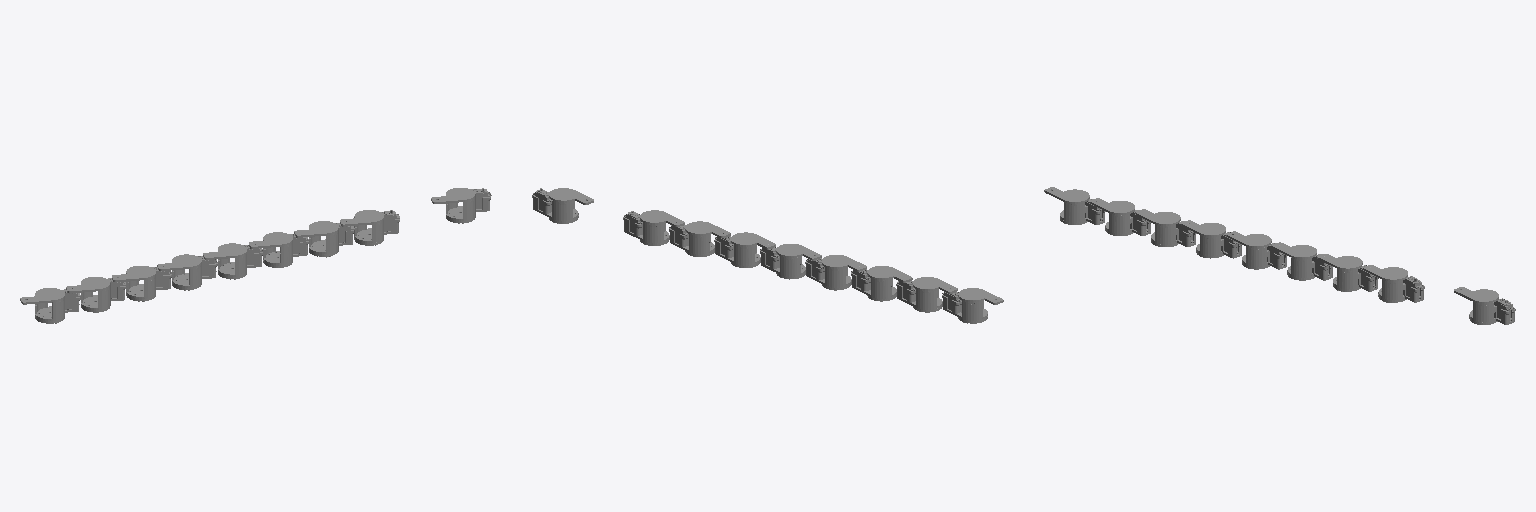
The robot description file, URDF, robot "cobraplaca":
<?xml version="1.0" encoding="utf-8"?>
<!-- This URDF was automatically created by SolidWorks to URDF Exporter! Originally created by [author] ([email redacted]) 
     Commit Version: 1.6.0-4-g7f85cfe  Build Version: 1.6.7995.38578
     For more information, please see http://wiki.ros.org/sw_urdf_exporter -->
<!-- 
  Modificações foram feitas nessa descrição a fim de simular o robô no ambiente de simulação Gazebo
  Autor: [author]
  email: [email redacted]
-->
<robot
  name="cobraplaca">
  <gazebo>
    <plugin name="gazebo_ros_control" filename="libgazebo_ros_control.so">
      <robotNamespace>/cobraplaca</robotNamespace>
    </plugin>
  </gazebo>
  <link name = "dummy"/>
  <link
    name="modulo1">
    <inertial>
      <origin
        xyz="-0.19548 -0.0079371 -0.092787"
        rpy="0 0 0" />
      <mass
        value="0.062449" />
      <inertia
        ixx="4.2331E-05"
        ixy="8.2349E-07"
        ixz="-3.8461E-06"
        iyy="9.0357E-05"
        iyz="-9.8697E-08"
        izz="7.2959E-05" />
    </inertial>
    <visual>
      <origin
        xyz="0 0 0"
        rpy="0 0 0" />
      <geometry>
        <mesh
          filename="package://cobraplaca/meshes/base_link.STL" />
      </geometry>
      <material
        name="">
        <color
          rgba="0.62745 0.62745 0.62745 1" />
      </material>
    </visual>
    <collision>
      <origin
        xyz="0 0 0"
        rpy="0 0 0" />
      <geometry>
        <mesh
          filename="package://cobraplaca/meshes/base_link.STL" />
      </geometry>
    </collision>
  </link>
  <gazebo reference="modulo1">
    <mu1>0.9</mu1>
    <mu2>0.9</mu2>
    
  </gazebo>
  <joint name = "dummy_joint" type = "fixed">
    <parent link="dummy"/>
    <child link="modulo1"/>
  </joint>
  <link
    name="modulo2">
    <inertial>
      <origin
        xyz="0.073686 -0.029721 -0.0008313"
        rpy="0 0 0" />
      <mass
        value="0.062449" />
      <inertia
        ixx="4.2331E-05"
        ixy="8.2349E-07"
        ixz="-3.8461E-06"
        iyy="9.0357E-05"
        iyz="-9.8697E-08"
        izz="7.2959E-05" />
    </inertial>
    <visual>
      <origin
        xyz="0 0 0"
        rpy="0 0 0" />
      <geometry>
        <mesh
          filename="package://cobraplaca/meshes/modulo2.STL" />
      </geometry>
      <material
        name="">
        <color
          rgba="0.62745 0.62745 0.62745 1" />
      </material>
    </visual>
    <collision>
      <origin
        xyz="0 0 0"
        rpy="0 0 0" />
      <geometry>
        <mesh
          filename="package://cobraplaca/meshes/modulo2.STL" />
      </geometry>
    </collision>
  </link>
  <gazebo reference="modulo2">
    <mu1>0.9</mu1>
    <mu2>0.9</mu2>
  </gazebo>
  <joint
    name="joint1"
    type="revolute">
    <origin
      xyz="-0.15473 0.091996 0.021784"
      rpy="1.5708 0 0" />
    <parent
      link="modulo1" />
    <child
      link="modulo2" />
    <axis
      xyz="0 1 0" />
    <limit
      lower="-2.0"
      upper="2.0"
      effort="10.0"
      velocity="0.5" />
    <physics>
      <ode cfm_damping = "true">
        <limit cfm = "1.0"/>
        <suspension cfm="1.0"/>
      </ode>
    </physics>
  </joint>
  <transmission name="trans1">
    <type>transmission_interface/SimpleTransmission</type>
    <joint name="joint1">
      <hardwareInterface>hardware_interface/EffortJointInterface</hardwareInterface>
    </joint>
    <actuator name="motor1">
      <hardwareInterface>hardware_interface/EffortJointInterface</hardwareInterface>
      <mechanicalReduction>1</mechanicalReduction>
    </actuator>
  </transmission>
  <link
    name="modulo3">
    <inertial>
      <origin
        xyz="0.073686 -0.029721 -0.0008313"
        rpy="0 0 0" />
      <mass
        value="0.062449" />
      <inertia
        ixx="4.2331E-05"
        ixy="8.2349E-07"
        ixz="-3.8461E-06"
        iyy="9.0357E-05"
        iyz="-9.8697E-08"
        izz="7.2959E-05" />
    </inertial>
    <visual>
      <origin
        xyz="0 0 0"
        rpy="0 0 0" />
      <geometry>
        <mesh
          filename="package://cobraplaca/meshes/modulo3.STL" />
      </geometry>
      <material
        name="">
        <color
          rgba="0.62745 0.62745 0.62745 1" />
      </material>
    </visual>
    <collision>
      <origin
        xyz="0 0 0"
        rpy="0 0 0" />
      <geometry>
        <mesh
          filename="package://cobraplaca/meshes/modulo3.STL" />
      </geometry>
    </collision>
  </link>
  <gazebo reference="modulo3">
    <mu1>0.9</mu1>
    <mu2>0.9</mu2>
    
  </gazebo>
  <joint
    name="joint2"
    type="revolute">
    <origin
      xyz="0.11444 0 -4.0212E-05"
      rpy="0 0 0" />
    <parent
      link="modulo2" />
    <child
      link="modulo3" />
    <axis
      xyz="0 1 0" />
    <limit
      lower="-2.0"
      upper="2.0"
      effort="100000000000.0"
      velocity="6.28" />
    <physics>
      <ode cfm_damping = "true">
        <limit cfm = "1.0"/>
        <suspension cfm="1.0"/>
      </ode>
    </physics>
  </joint>
  <transmission name="trans2">
    <type>transmission_interface/SimpleTransmission</type>
    <joint name="joint2">
      <hardwareInterface>hardware_interface/EffortJointInterface</hardwareInterface>
    </joint>
    <actuator name="motor2">
      <hardwareInterface>hardware_interface/EffortJointInterface</hardwareInterface>
      <mechanicalReduction>1</mechanicalReduction>
    </actuator>
  </transmission>
  <link
    name="modulo4">
    <inertial>
      <origin
        xyz="0.0736864302969557 -0.0297211972454861 -0.000831298567806088"
        rpy="0 0 0" />
      <mass
        value="0.0624486089384005" />
      <inertia
        ixx="4.23306741017875E-05"
        ixy="8.23488383173284E-07"
        ixz="-3.84610240874935E-06"
        iyy="9.03567329613313E-05"
        iyz="-9.86970187562682E-08"
        izz="7.29593550442413E-05" />
    </inertial>
    <visual>
      <origin
        xyz="0 0 0"
        rpy="0 0 0" />
      <geometry>
        <mesh
          filename="package://cobraplaca/meshes/modulo4.STL" />
      </geometry>
      <material
        name="">
        <color
          rgba="0.627450980392157 0.627450980392157 0.627450980392157 1" />
      </material>
    </visual>
    <collision>
      <origin
        xyz="0 0 0"
        rpy="0 0 0" />
      <geometry>
        <mesh
          filename="package://cobraplaca/meshes/modulo4.STL" />
      </geometry>
    </collision>
  </link>
  <gazebo reference="modulo4">
    <mu1>0.9</mu1>
    <mu2>0.9</mu2>
    
  </gazebo>
  <joint
    name="joint3"
    type="revolute">
    <origin
      xyz="0.11444 0 -4.0212E-05"
      rpy="0 0 0" />
    <parent
      link="modulo3" />
    <child
      link="modulo4" />
    <axis
      xyz="0 1 0" />
    <limit
      lower="-2.0"
      upper="2.0"
      effort="100000000000.0"
      velocity="6.28" />
    <physics>
      <ode cfm_damping = "true">
        <limit cfm = "1.0"/>
        <suspension cfm="1.0"/>
      </ode>
    </physics>
  </joint>
  <transmission name="trans3">
    <type>transmission_interface/SimpleTransmission</type>
    <joint name="joint3">
      <hardwareInterface>hardware_interface/EffortJointInterface</hardwareInterface>
    </joint>
    <actuator name="motor3">
      <hardwareInterface>hardware_interface/EffortJointInterface</hardwareInterface>
      <mechanicalReduction>1</mechanicalReduction>
    </actuator>
  </transmission>
  <link
    name="modulo5">
    <inertial>
      <origin
        xyz="0.0736864302969558 -0.0297211972454855 -0.000831298567805991"
        rpy="0 0 0" />
      <mass
        value="0.0624486089384005" />
      <inertia
        ixx="4.23306741017875E-05"
        ixy="8.23488383173303E-07"
        ixz="-3.84610240874932E-06"
        iyy="9.03567329613312E-05"
        iyz="-9.86970187568371E-08"
        izz="7.2959355044241E-05" />
    </inertial>
    <visual>
      <origin
        xyz="0 0 0"
        rpy="0 0 0" />
      <geometry>
        <mesh
          filename="package://cobraplaca/meshes/modulo5.STL" />
      </geometry>
      <material
        name="">
        <color
          rgba="0.627450980392157 0.627450980392157 0.627450980392157 1" />
      </material>
    </visual>
    <collision>
      <origin
        xyz="0 0 0"
        rpy="0 0 0" />
      <geometry>
        <mesh
          filename="package://cobraplaca/meshes/modulo5.STL" />
      </geometry>
    </collision>
  </link>
  <gazebo reference="modulo5">
    <mu1>0.9</mu1>
    <mu2>0.9</mu2>
    
  </gazebo>
  <joint
    name="joint4"
    type="revolute">
    <origin
      xyz="0.11444 0 -4.0212E-05"
      rpy="0 0 0" />
    <parent
      link="modulo4" />
    <child
      link="modulo5" />
    <axis
      xyz="0 1 0" />
    <limit
      lower="-2.0"
      upper="2.0"
      effort="100000000000.0"
      velocity="6.28" />
    <physics>
      <ode cfm_damping = "true">
        <limit cfm = "1.0"/>
        <suspension cfm="1.0"/>
      </ode>
    </physics>
  </joint>
  <transmission name="trans4">
    <type>transmission_interface/SimpleTransmission</type>
    <joint name="joint4">
      <hardwareInterface>hardware_interface/EffortJointInterface</hardwareInterface>
    </joint>
    <actuator name="motor4">
      <hardwareInterface>hardware_interface/EffortJointInterface</hardwareInterface>
      <mechanicalReduction>1</mechanicalReduction>
    </actuator>
  </transmission>
  <link
    name="modulo6">
    <inertial>
      <origin
        xyz="0.073686 -0.029721 -0.0008313"
        rpy="0 0 0" />
      <mass
        value="0.062449" />
      <inertia
        ixx="4.2331E-05"
        ixy="8.2349E-07"
        ixz="-3.8461E-06"
        iyy="9.0357E-05"
        iyz="-9.8697E-08"
        izz="7.2959E-05" />
    </inertial>
    <visual>
      <origin
        xyz="0 0 0"
        rpy="0 0 0" />
      <geometry>
        <mesh
          filename="package://cobraplaca/meshes/modulo6.STL" />
      </geometry>
      <material
        name="">
        <color
          rgba="0.62745 0.62745 0.62745 1" />
      </material>
    </visual>
    <collision>
      <origin
        xyz="0 0 0"
        rpy="0 0 0" />
      <geometry>
        <mesh
          filename="package://cobraplaca/meshes/modulo6.STL" />
      </geometry>
    </collision>
  </link>
  <gazebo reference="modulo6">
    <mu1>0.9</mu1>
    <mu2>0.9</mu2>
    
  </gazebo>
  <joint
    name="joint5"
    type="revolute">
    <origin
      xyz="0.11444 0 -4.0212E-05"
      rpy="0 0 0" />
    <parent
      link="modulo5" />
    <child
      link="modulo6" />
    <axis
      xyz="0 1 0" />
    <limit
      lower="-2.0"
      upper="2.0"
      effort="100000000000.0"
      velocity="6.28" />
    <physics>
      <ode cfm_damping = "true">
        <limit cfm = "1.0"/>
        <suspension cfm="1.0"/>
      </ode>
    </physics>
  </joint>
  <transmission name="trans5">
    <type>transmission_interface/SimpleTransmission</type>
    <joint name="joint5">
      <hardwareInterface>hardware_interface/EffortJointInterface</hardwareInterface>
    </joint>
    <actuator name="motor5">
      <hardwareInterface>hardware_interface/EffortJointInterface</hardwareInterface>
      <mechanicalReduction>1</mechanicalReduction>
    </actuator>
  </transmission>
  <link
    name="modulo7">
    <inertial>
      <origin
        xyz="0.0736864303147165 -0.0297211972561647 -0.000831298559470214"
        rpy="0 0 0" />
      <mass
        value="0.0624486089464186" />
      <inertia
        ixx="4.23306741091947E-05"
        ixy="8.23488390584288E-07"
        ixz="-3.84610242802216E-06"
        iyy="9.03567330041933E-05"
        iyz="-9.86970132555384E-08"
        izz="7.29593550761642E-05" />
    </inertial>
    <visual>
      <origin
        xyz="0 0 0"
        rpy="0 0 0" />
      <geometry>
        <mesh
          filename="package://cobraplaca/meshes/modulo7.STL" />
      </geometry>
      <material
        name="">
        <color
          rgba="0.627450980392157 0.627450980392157 0.627450980392157 1" />
      </material>
    </visual>
    <collision>
      <origin
        xyz="0 0 0"
        rpy="0 0 0" />
      <geometry>
        <mesh
          filename="package://cobraplaca/meshes/modulo7.STL" />
      </geometry>
    </collision>
  </link>
  <gazebo reference="modulo7">
    <mu1>0.9</mu1>
    <mu2>0.9</mu2>
    
  </gazebo>
  <joint
    name="joint6"
    type="revolute">
    <origin
      xyz="0.11444 0 -4.0212E-05"
      rpy="0 0 0" />
    <parent
      link="modulo6" />
    <child
      link="modulo7" />
    <axis
      xyz="0 1 0" />
    <limit
      lower="-2.0"
      upper="2.0"
      effort="100000000000.0"
      velocity="6.28" />
    <physics>
      <ode cfm_damping = "true">
        <limit cfm = "1.0"/>
        <suspension cfm="1.0"/>
      </ode>
    </physics>
  </joint>
  <transmission name="trans6">
    <type>transmission_interface/SimpleTransmission</type>
    <joint name="joint6">
      <hardwareInterface>hardware_interface/EffortJointInterface</hardwareInterface>
    </joint>
    <actuator name="motor6">
      <hardwareInterface>hardware_interface/EffortJointInterface</hardwareInterface>
      <mechanicalReduction>1</mechanicalReduction>
    </actuator>
  </transmission>
  <link
    name="modulo8">
    <inertial>
      <origin
        xyz="0.073686430296956 -0.0297211972454852 -0.000831298567805852"
        rpy="0 0 0" />
      <mass
        value="0.0624486089384004" />
      <inertia
        ixx="4.23306741017869E-05"
        ixy="8.23488383172666E-07"
        ixz="-3.84610240874893E-06"
        iyy="9.03567329613307E-05"
        iyz="-9.86970187562574E-08"
        izz="7.29593550442411E-05" />
    </inertial>
    <visual>
      <origin
        xyz="0 0 0"
        rpy="0 0 0" />
      <geometry>
        <mesh
          filename="package://cobraplaca/meshes/modulo8.STL" />
      </geometry>
      <material
        name="">
        <color
          rgba="0.627450980392157 0.627450980392157 0.627450980392157 1" />
      </material>
    </visual>
    <collision>
      <origin
        xyz="0 0 0"
        rpy="0 0 0" />
      <geometry>
        <mesh
          filename="package://cobraplaca/meshes/modulo8.STL" />
      </geometry>
    </collision>
  </link>
  <gazebo reference="modulo8">
    <mu1>0.9</mu1>
    <mu2>0.9</mu2>
    
  </gazebo>
  <joint
    name="joint7"
    type="revolute">
    <origin
      xyz="0.11444 0 -4.0212E-05"
      rpy="0 0 0" />
    <parent
      link="modulo7" />
    <child
      link="modulo8" />
    <axis
      xyz="0 1 0" />
    <limit
      lower="-2.0"
      upper="2.0"
      effort="100000000000.0"
      velocity="6.28" />
    <physics>
      <ode cfm_damping = "true">
        <limit cfm = "1.0"/>
        <suspension cfm="1.0"/>
      </ode>
    </physics>
  </joint>
  <transmission name="trans7">
    <type>transmission_interface/SimpleTransmission</type>
    <joint name="joint7">
      <hardwareInterface>hardware_interface/EffortJointInterface</hardwareInterface>
    </joint>
    <actuator name="motor7">
      <hardwareInterface>hardware_interface/EffortJointInterface</hardwareInterface>
      <mechanicalReduction>1</mechanicalReduction>
    </actuator>
  </transmission>
  <link
    name="modulo9">
    <inertial>
      <origin
        xyz="0.073686 -0.029721 -0.0008313"
        rpy="0 0 0" />
      <mass
        value="0.062449" />
      <inertia
        ixx="4.2331E-05"
        ixy="8.2349E-07"
        ixz="-3.8461E-06"
        iyy="9.0357E-05"
        iyz="-9.8697E-08"
        izz="7.2959E-05" />
    </inertial>
    <visual>
      <origin
        xyz="0 0 0"
        rpy="0 0 0" />
      <geometry>
        <mesh
          filename="package://cobraplaca/meshes/modulo9.STL" />
      </geometry>
      <material
        name="">
        <color
          rgba="0.62745 0.62745 0.62745 1" />
      </material>
    </visual>
    <collision>
      <origin
        xyz="0 0 0"
        rpy="0 0 0" />
      <geometry>
        <mesh
          filename="package://cobraplaca/meshes/modulo9.STL" />
      </geometry>
    </collision>
  </link>
  <gazebo reference="modulo9">
    <mu1>0.9</mu1>
    <mu2>0.9</mu2>
    
  </gazebo>
  <joint
    name="joint8"
    type="revolute">
    <origin
      xyz="0.11444 0 -4.0212E-05"
      rpy="0 0 0" />
    <parent
      link="modulo8" />
    <child
      link="modulo9" />
    <axis
      xyz="0 1 0" />
    <limit
      lower="-2.0"
      upper="2.0"
      effort="100000000000.0"
      velocity="6.28" />
    <physics>
      <ode cfm_damping = "true">
        <limit cfm = "1.0"/>
        <suspension cfm="1.0"/>
      </ode>
    </physics>
  </joint>
  <transmission name="trans8">
    <type>transmission_interface/SimpleTransmission</type>
    <joint name="joint8">
      <hardwareInterface>hardware_interface/EffortJointInterface</hardwareInterface>
    </joint>
    <actuator name="motor8">
      <hardwareInterface>hardware_interface/EffortJointInterface</hardwareInterface>
      <mechanicalReduction>1</mechanicalReduction>
    </actuator>
  </transmission>
  <link
    name="modulo10">
    <inertial>
      <origin
        xyz="0.073686 -0.029721 -0.0008313"
        rpy="0 0 0" />
      <mass
        value="0.062449" />
      <inertia
        ixx="4.2331E-05"
        ixy="8.2349E-07"
        ixz="-3.8461E-06"
        iyy="9.0357E-05"
        iyz="-9.8697E-08"
        izz="7.2959E-05" />
    </inertial>
    <visual>
      <origin
        xyz="0 0 0"
        rpy="0 0 0" />
      <geometry>
        <mesh
          filename="package://cobraplaca/meshes/modulo10.STL" />
      </geometry>
      <material
        name="">
        <color
          rgba="0.62745 0.62745 0.62745 1" />
      </material>
    </visual>
    <collision>
      <origin
        xyz="0 0 0"
        rpy="0 0 0" />
      <geometry>
        <mesh
          filename="package://cobraplaca/meshes/modulo10.STL" />
      </geometry>
    </collision>
  </link>
  <gazebo reference="modulo10">
    <mu1>0.9</mu1>
    <mu2>0.9</mu2>
    
  </gazebo>
  <joint
    name="joint9"
    type="revolute">
    <origin
      xyz="0.11444 0 -4.0212E-05"
      rpy="0 0 0" />
    <parent
      link="modulo9" />
    <child
      link="modulo10" />
    <axis
      xyz="0 1 0" />
    <limit
      lower="-2.0"
      upper="2.0"
      effort="100000000000.0"
      velocity="6.28" />
    <physics>
      <ode cfm_damping = "true">
        <limit cfm = "1.0"/>
        <suspension cfm="1.0"/>
      </ode>
    </physics>
  </joint>
  <transmission name="trans9">
    <type>transmission_interface/SimpleTransmission</type>
    <joint name="joint9">
      <hardwareInterface>hardware_interface/EffortJointInterface</hardwareInterface>
    </joint>
    <actuator name="motor9">
      <hardwareInterface>hardware_interface/EffortJointInterface</hardwareInterface>
      <mechanicalReduction>1</mechanicalReduction>
    </actuator>
  </transmission>
</robot>

--- Facts derived from the render (not from the file) ---
Views: 3 orthographic renders of the robot side by side, from view 1: azimuth 30°, elevation 25°; view 2: azimuth 150°, elevation 25°; view 3: azimuth 330°, elevation 25°.
Model cobraplaca with 11 links and 10 joints (9 revolute, 1 fixed), rooted at dummy, posed every joint at zero.
Visible links, largest first — view 1: modulo8, modulo10, modulo1, modulo3, modulo6, modulo4, modulo7, modulo2, modulo5; view 2: modulo10, modulo8, modulo6, modulo2, modulo4, modulo7, modulo3, modulo1, modulo5; view 3: modulo10, modulo8, modulo7, modulo6, modulo4, modulo1, modulo3, modulo2, modulo5.
Boxes of the visible links, <box> form: modulo8: <box>340,210,399,245</box>; modulo10: <box>431,188,491,223</box>; modulo1: <box>20,288,80,323</box>; modulo3: <box>112,266,171,301</box>; modulo6: <box>249,232,308,267</box>; modulo4: <box>157,254,217,290</box>; modulo7: <box>294,221,354,257</box>; modulo2: <box>66,277,125,312</box>; modulo5: <box>203,243,262,279</box>; modulo10: <box>532,188,593,223</box>; modulo8: <box>623,210,684,245</box>; modulo6: <box>714,232,775,267</box>; modulo2: <box>896,277,957,312</box>; modulo4: <box>805,255,866,290</box>; modulo7: <box>669,221,730,256</box>; modulo3: <box>851,266,912,301</box>; modulo1: <box>942,288,1003,323</box>; modulo5: <box>760,244,821,279</box>; modulo10: <box>1454,287,1515,324</box>; modulo8: <box>1363,265,1424,302</box>; modulo7: <box>1317,254,1378,291</box>; modulo6: <box>1272,242,1332,280</box>; modulo4: <box>1181,220,1241,258</box>; modulo1: <box>1044,187,1105,224</box>; modulo3: <box>1135,209,1196,246</box>; modulo2: <box>1090,198,1150,235</box>; modulo5: <box>1226,231,1286,269</box>.
Bounding box of the posed robot: 1.18 × 0.0654 × 0.0589 m (x, y, z).
Meshes: 10 distinct files referenced, 9 mesh visuals loaded (9 binary STL); not drawn: 1 (reference not matched to a file when rendering).
